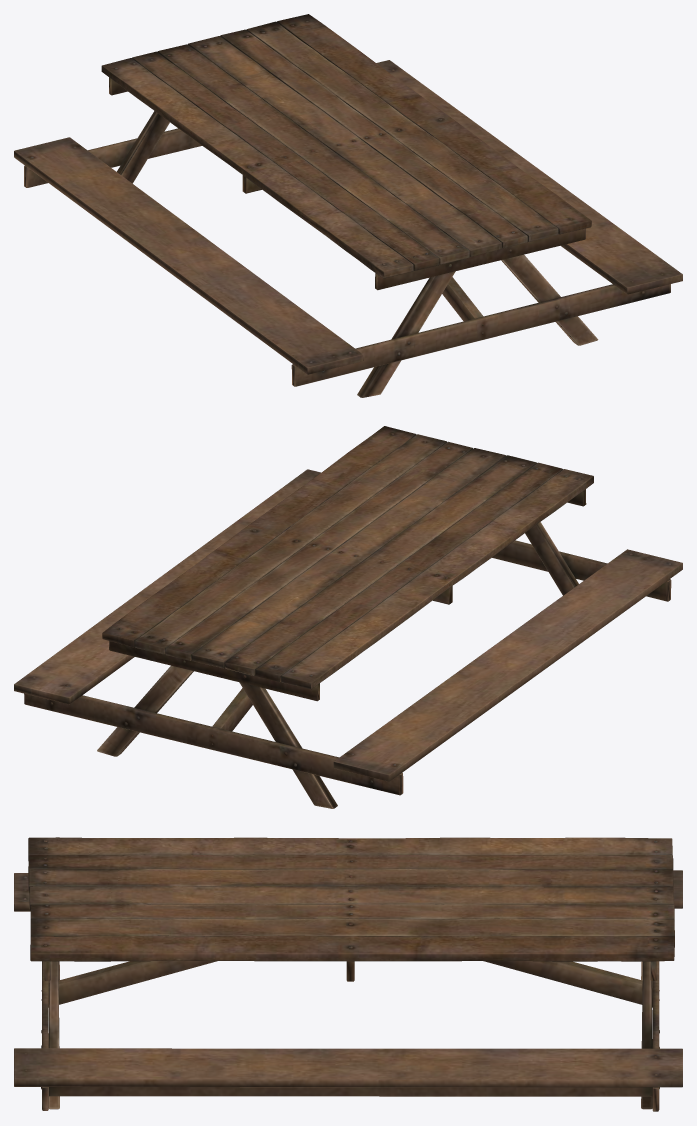
The model's file is picnic.glb.
3 views of the same model, one above another, from view 1: azimuth 30°, elevation 25°; view 2: azimuth 150°, elevation 25°; view 3: azimuth 270°, elevation 25° (orthographic). The views are drawn at different scales.
Parts seen in each view (by area): view 1: wooden_picnic_table baked; view 2: wooden_picnic_table baked; view 3: wooden_picnic_table baked.
Part boxes in pixels (bbox=[...]): wooden_picnic_table baked: bbox=[14, 14, 682, 397]; wooden_picnic_table baked: bbox=[14, 426, 682, 808]; wooden_picnic_table baked: bbox=[14, 837, 682, 1111].
Bounding box in the file's own units: 2.24 × 0.746 × 3.02.
2 materials, 2 textured.
